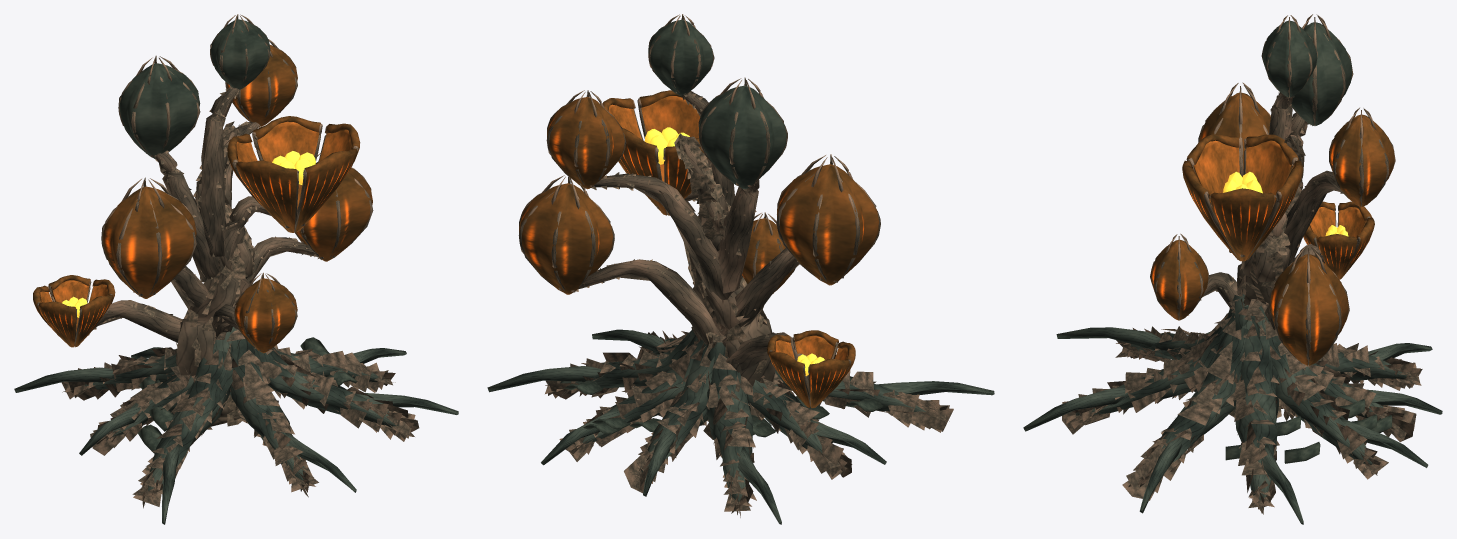
File: pods_lod1.glb
The picture shows the model from 3 angles, left to right: view 1: azimuth 30°, elevation 25°; view 2: azimuth 150°, elevation 25°; view 3: azimuth 270°, elevation 25°; orthographic projection. The views are drawn at different scales.
Visible parts, largest first — view 1: pods_lod1_mineral_bark, pods_lod1_wax_pod, pods_lod1_damp_root, pods_lod1_unripe_pod, pods_lod1_sail_rib, pods_lod1_bark_ridge, pods_lod1_inner_pod, pods_lod1_amber_organ; view 2: pods_lod1_mineral_bark, pods_lod1_wax_pod, pods_lod1_damp_root, pods_lod1_unripe_pod, pods_lod1_sail_rib, pods_lod1_bark_ridge, pods_lod1_inner_pod, pods_lod1_amber_organ; view 3: pods_lod1_mineral_bark, pods_lod1_wax_pod, pods_lod1_damp_root, pods_lod1_unripe_pod, pods_lod1_sail_rib, pods_lod1_inner_pod, pods_lod1_bark_ridge, pods_lod1_amber_organ.
Boxes of the visible parts, box(x1,y1,x2,y2) form: pods_lod1_mineral_bark: box(61, 87, 419, 508); pods_lod1_wax_pod: box(33, 45, 372, 353); pods_lod1_damp_root: box(14, 318, 458, 524); pods_lod1_unripe_pod: box(119, 19, 356, 453); pods_lod1_sail_rib: box(37, 14, 373, 350); pods_lod1_bark_ridge: box(88, 85, 323, 429); pods_lod1_inner_pod: box(40, 121, 350, 331); pods_lod1_amber_organ: box(62, 151, 315, 317); pods_lod1_mineral_bark: box(545, 91, 953, 517); pods_lod1_wax_pod: box(519, 90, 879, 408); pods_lod1_damp_root: box(487, 329, 994, 524); pods_lod1_unripe_pod: box(564, 19, 883, 437); pods_lod1_sail_rib: box(518, 14, 880, 406); pods_lod1_bark_ridge: box(575, 91, 797, 439); pods_lod1_inner_pod: box(608, 96, 847, 360); pods_lod1_amber_organ: box(644, 127, 824, 376); pods_lod1_mineral_bark: box(1062, 92, 1422, 514); pods_lod1_wax_pod: box(1151, 92, 1394, 365); pods_lod1_damp_root: box(1023, 294, 1442, 524); pods_lod1_unripe_pod: box(1206, 20, 1392, 463); pods_lod1_sail_rib: box(1150, 14, 1395, 365); pods_lod1_inner_pod: box(1194, 140, 1365, 237); pods_lod1_bark_ridge: box(1187, 91, 1352, 420); pods_lod1_amber_organ: box(1223, 171, 1348, 236).
Bounding box in the file's own units: 4.2 × 4.53 × 3.95.
Materials: 8 (7 with a texture image).
